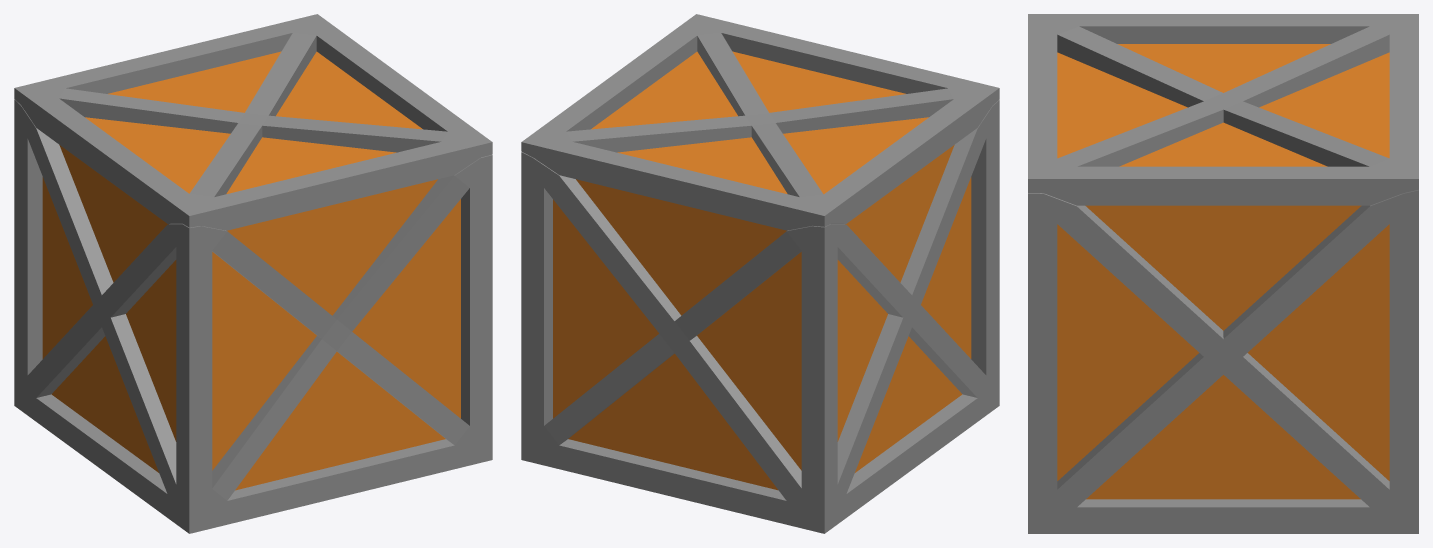
File: Wooden Crate.fbx
The picture shows the model from 3 angles, left to right: view 1: azimuth 30°, elevation 25°; view 2: azimuth 150°, elevation 25°; view 3: azimuth 270°, elevation 25°; orthographic projection. The views are drawn at different scales.
Visible parts, largest first — view 1: Crate, Crate Lid; view 2: Crate, Crate Lid; view 3: Crate, Crate Lid.
Boxes of the visible parts, x1=… form: Crate: x1=14, y1=99, x2=492, y2=533; Crate Lid: x1=14, y1=14, x2=492, y2=230; Crate: x1=521, y1=100, x2=999, y2=533; Crate Lid: x1=521, y1=14, x2=999, y2=230; Crate: x1=1028, y1=189, x2=1418, y2=533; Crate Lid: x1=1028, y1=14, x2=1418, y2=205.
Bounding box in the file's own units: 200 × 200 × 200.
